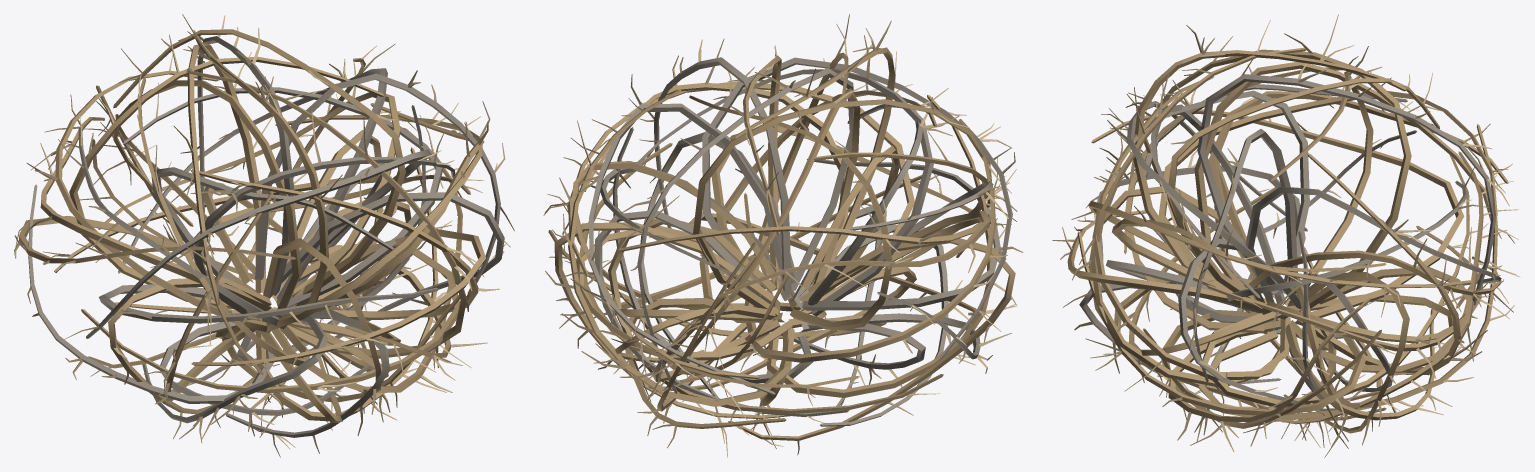
The model's file is tumbleweed_1.glb.
3 views of the same model, side by side, from view 1: azimuth 30°, elevation 25°; view 2: azimuth 150°, elevation 25°; view 3: azimuth 270°, elevation 25° (orthographic). The views are drawn at different scales.
Parts seen in each view (by area): view 1: tumbleweed; view 2: tumbleweed; view 3: tumbleweed.
Boxes of the visible parts, left/top/right/bottom form: tumbleweed: left=14, top=14, right=514, bottom=457; tumbleweed: left=543, top=14, right=1023, bottom=457; tumbleweed: left=1052, top=14, right=1520, bottom=457.
Bounding box in the file's own units: 1.05 × 0.9789 × 1.04.
